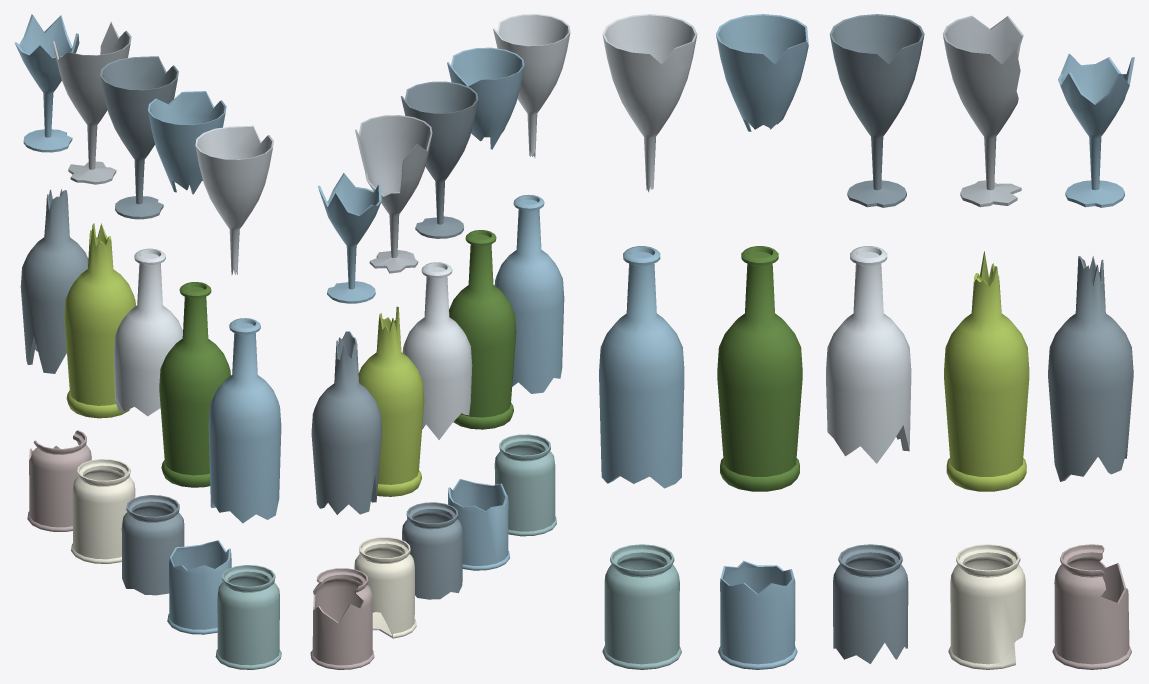
Rendered from Vidrio_FBX.fbx.
The picture shows the model from 3 angles, left to right: view 1: azimuth 30°, elevation 25°; view 2: azimuth 150°, elevation 25°; view 3: azimuth 270°, elevation 25°; orthographic projection. The views are drawn at different scales.
Visible parts, largest first — view 1: Botella_01.001, Botella_02.001, Botella_04.001, Botella_05.001, Botella_03.001, Vaso_03, Frasco_01, Vaso_01, Frasco_04, Frasco_03, Vaso_02, Frasco_02 (+3 smaller); view 2: Botella_05.001, Botella_01.001, Botella_02.001, Botella_04.001, Botella_03.001, Vaso_04, Vaso_03, Frasco_05, Frasco_01, Vaso_01, Frasco_03, Vaso_02 (+3 smaller); view 3: Botella_02.001, Botella_01.001, Botella_04.001, Botella_05.001, Botella_03.001, Vaso_03, Frasco_01, Vaso_01, Vaso_04, Frasco_04, Frasco_05, Vaso_02 (+3 smaller).
Boxes of the visible parts, x1,y1,x2,y2 form: Botella_01.001: (208,318,281,523); Botella_02.001: (159,282,230,487); Botella_04.001: (64,223,135,418); Botella_05.001: (20,189,88,373); Botella_03.001: (113,248,182,416); Vaso_03: (100,56,178,219); Frasco_01: (215,565,281,669); Vaso_01: (195,125,273,274); Frasco_04: (71,459,135,563); Frasco_03: (121,495,184,595); Vaso_02: (148,91,226,194); Frasco_02: (167,540,231,634); Botella_05.001: (311,331,381,514); Botella_01.001: (494,194,564,393); Botella_02.001: (449,230,516,429); Botella_04.001: (358,306,424,496); Botella_03.001: (402,262,472,439); Vaso_04: (355,115,432,273); Vaso_03: (400,81,478,238); Frasco_05: (310,568,374,669); Frasco_01: (494,434,556,536); Vaso_01: (493,14,570,157); Frasco_03: (402,502,462,599); Vaso_02: (447,47,524,149); Botella_02.001: (717,246,802,491); Botella_01.001: (599,246,684,488); Botella_04.001: (944,251,1029,491); Botella_05.001: (1048,256,1133,481); Botella_03.001: (826,246,911,463); Vaso_03: (829,14,924,207); Frasco_01: (602,544,681,669); Vaso_01: (602,14,697,192); Vaso_04: (942,15,1023,207); Frasco_04: (948,544,1025,669); Frasco_05: (1052,544,1131,669); Vaso_02: (716,14,808,131).
Size of the model in its own units: 0.3322 by 2.22 by 1.74.
